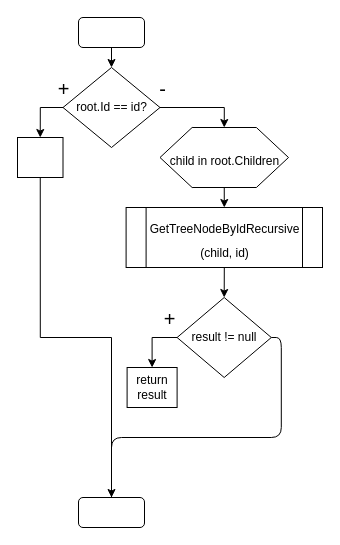
Some shapes in this 340 by 545 pixel diagram are drawn without their labels. The shapes that lost their labels are listed below. From the top down, each one's centre as x and y in pixels, then its label:
At pixel 111 32: "Начало".
At pixel 39 157: "return root".
At pixel 111 512: "Конец".
